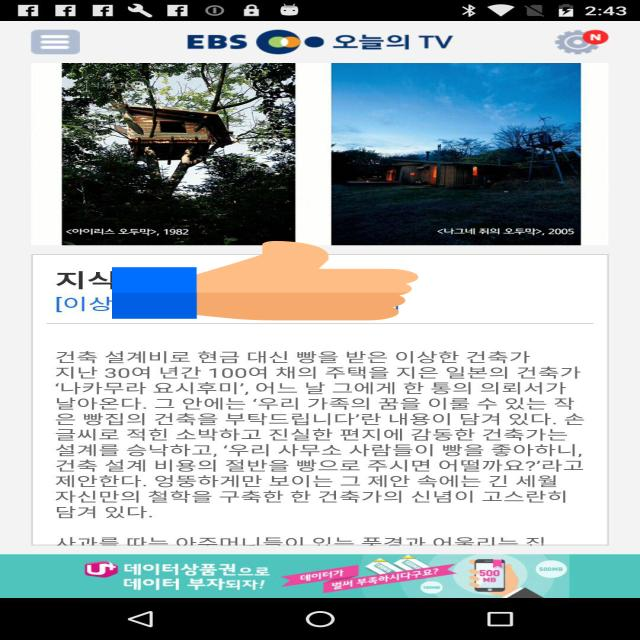privacy zuckering: (112, 239, 418, 322)
